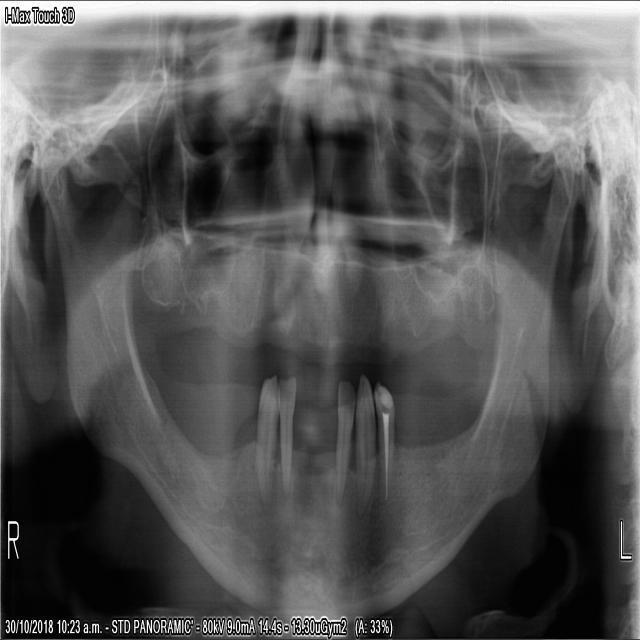LCD: (353, 366, 376, 521)
LID: (332, 376, 355, 498)
LPMD: (373, 377, 395, 503)
RCD: (278, 376, 296, 506)
RPMD: (253, 373, 278, 509)
